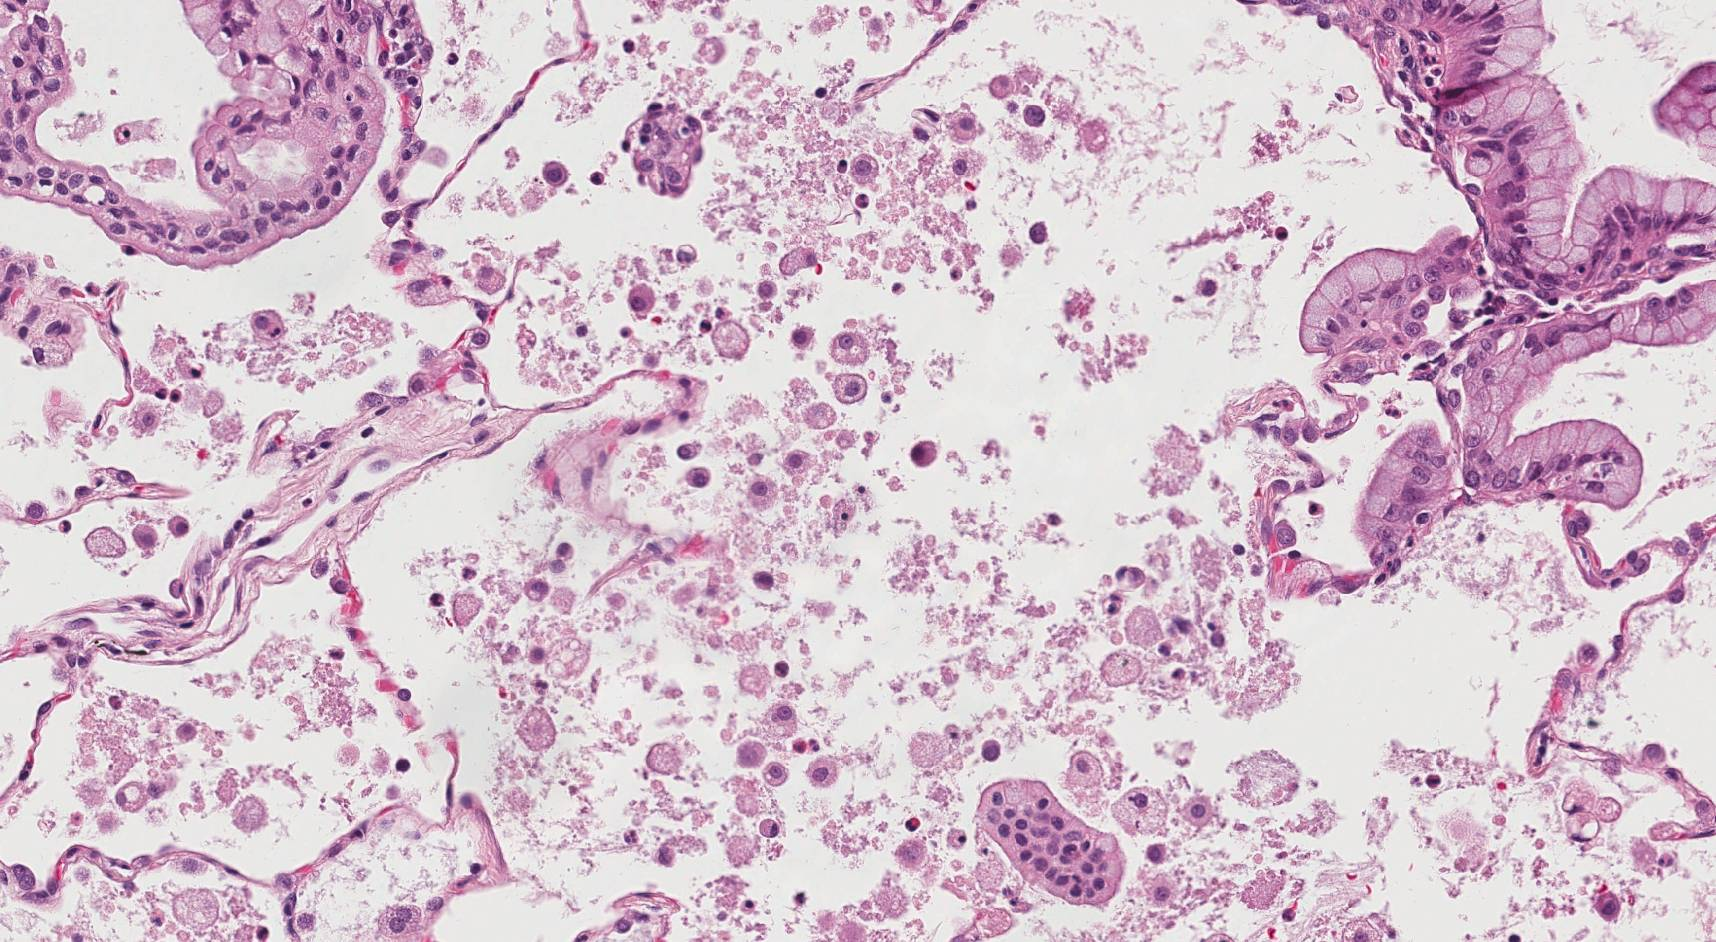stas: (979, 776, 1125, 905), (619, 101, 703, 196)
